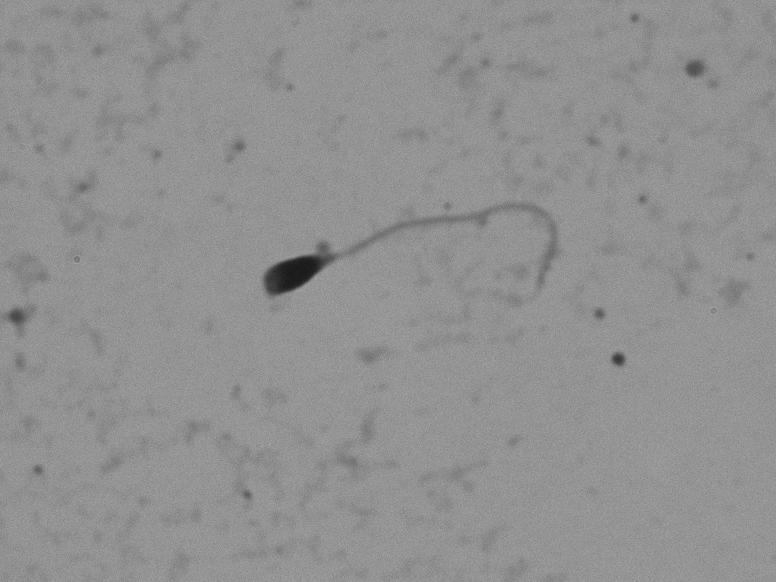Abnormal: (230, 177, 577, 346)
